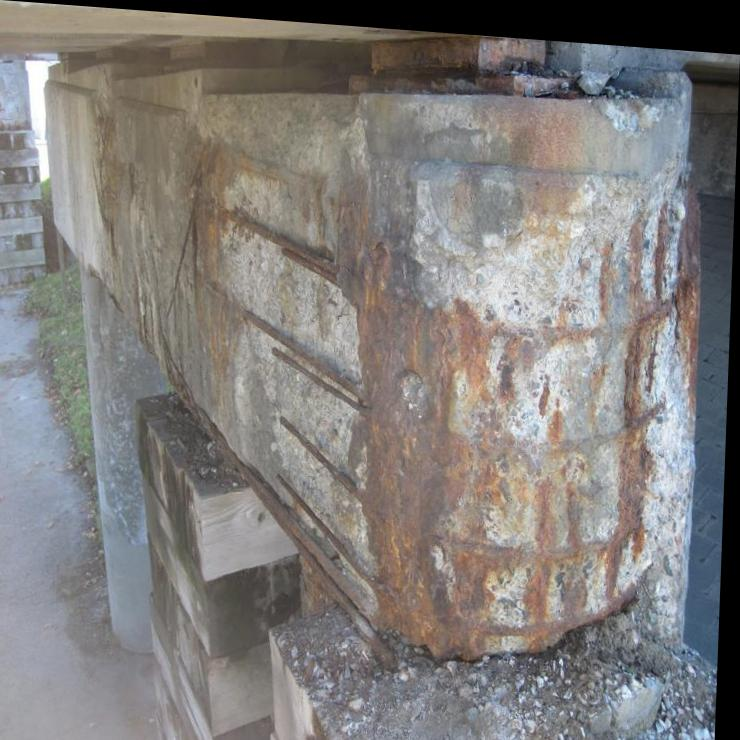damage: (91, 103, 707, 654)
